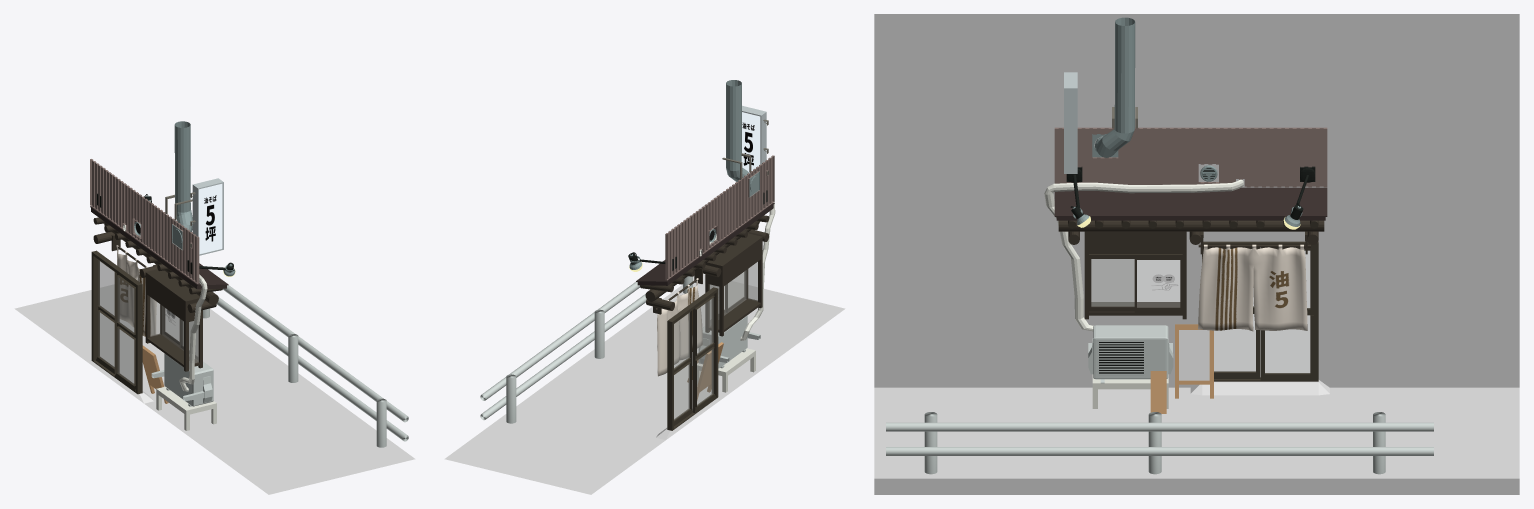
File: aburasobaya.glb
3 views of the same model, side by side, from view 1: azimuth 30°, elevation 25°; view 2: azimuth 150°, elevation 25°; view 3: azimuth 270°, elevation 25° (orthographic). The views are drawn at different scales.
Visible parts, largest first — view 1: Sol, UpperWood, Block, Gauche, Droite, PanneauLumineux, Cadre, Clim, GrosTubeAeration, Cylinder.014, Cylinder.013, Rideaux (+6 smaller); view 2: Sol, UpperWood, Block, Gauche, Rideaux, Droite, Cadre, GrosTubeAeration, Cylinder.014, Cylinder.013, PanneauLumineux, Clim (+7 smaller); view 3: Mur, Sol, UpperWood, Rideaux, Toiture, Block, Cylinder.013, Cylinder.014, Clim, Droite, GrosTubeAeration, ClimAeration (+10 smaller).
Boxes of the visible parts, x1=… form: Sol: x1=14, y1=279, x2=415, y2=494; UpperWood: x1=90, y1=159, x2=199, y2=283; Block: x1=145, y1=269, x2=202, y2=371; Gauche: x1=114, y1=272, x2=135, y2=391; Droite: x1=95, y1=258, x2=119, y2=373; PanneauLumineux: x1=192, y1=178, x2=223, y2=255; Cadre: x1=91, y1=250, x2=142, y2=394; Clim: x1=151, y1=353, x2=213, y2=406; GrosTubeAeration: x1=174, y1=121, x2=192, y2=231; Cylinder.014: x1=216, y1=297, x2=408, y2=441; Cylinder.013: x1=222, y1=285, x2=408, y2=422; Rideaux: x1=116, y1=245, x2=156, y2=336; Sol: x1=444, y1=274, x2=845, y2=494; UpperWood: x1=665, y1=155, x2=774, y2=280; Block: x1=705, y1=233, x2=762, y2=336; Gauche: x1=693, y1=292, x2=716, y2=412; Rideaux: x1=657, y1=278, x2=702, y2=376; Droite: x1=674, y1=310, x2=692, y2=425; Cadre: x1=667, y1=287, x2=718, y2=430; GrosTubeAeration: x1=726, y1=80, x2=749, y2=181; Cylinder.014: x1=480, y1=294, x2=646, y2=420; Cylinder.013: x1=480, y1=282, x2=639, y2=400; PanneauLumineux: x1=741, y1=105, x2=766, y2=172; Clim: x1=698, y1=315, x2=760, y2=368; Mur: x1=874, y1=14, x2=1519, y2=387; Sol: x1=874, y1=387, x2=1519, y2=494; UpperWood: x1=1054, y1=127, x2=1327, y2=187; Rideaux: x1=1198, y1=244, x2=1307, y2=331; Toiture: x1=1054, y1=187, x2=1327, y2=220; Block: x1=1084, y1=231, x2=1186, y2=319; Cylinder.013: x1=886, y1=422, x2=1433, y2=431; Cylinder.014: x1=886, y1=447, x2=1433, y2=455; Clim: x1=1088, y1=325, x2=1173, y2=383; Droite: x1=1260, y1=247, x2=1314, y2=380; GrosTubeAeration: x1=1095, y1=17, x2=1135, y2=157; ClimAeration: x1=1044, y1=179, x2=1243, y2=331.
Size of the model in its own units: 2.43 by 4.8 by 7.2.
20 materials, 4 textured.
